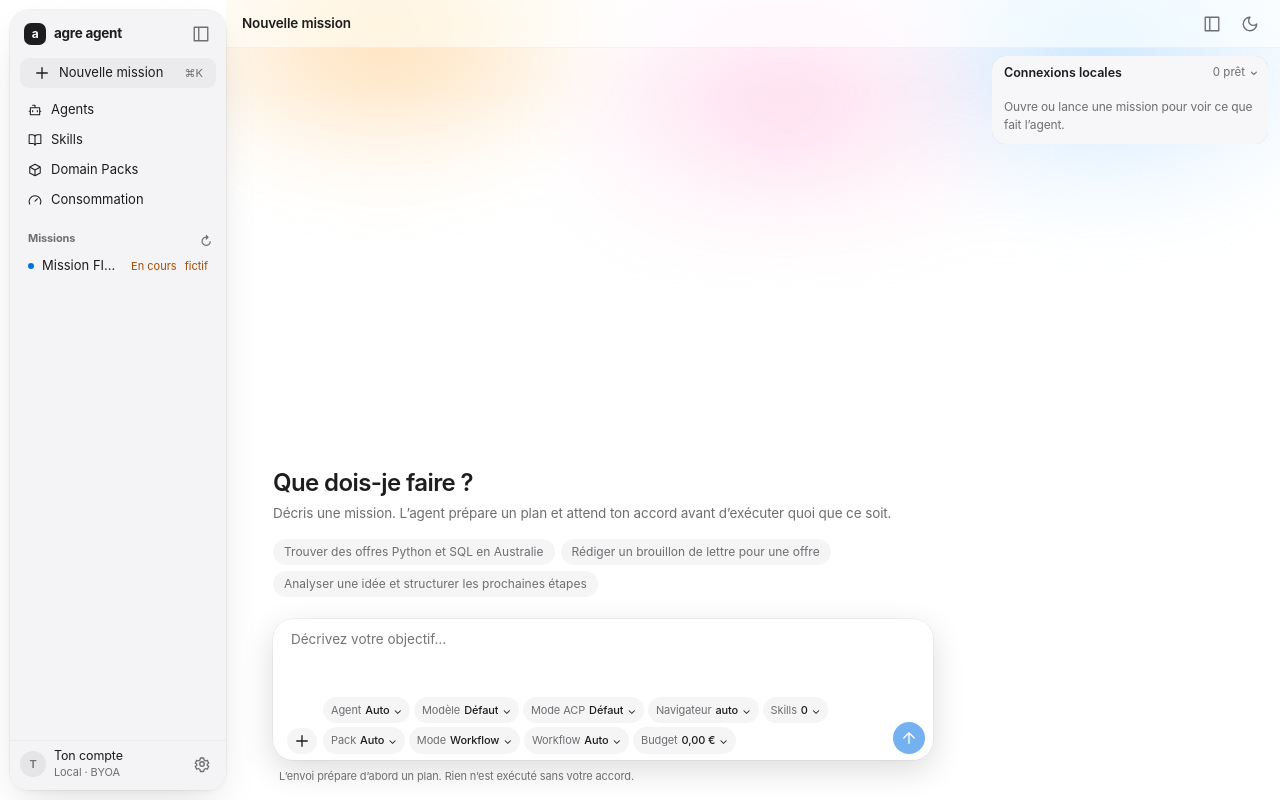
détecte une perte du backend même si le flux ne signale aucune erreur
This screenshot has width=1280, height=800.
Click the button "Mission FICTIVE sans événement En cours fictif" at point(118, 266), box [18,252,218,280]
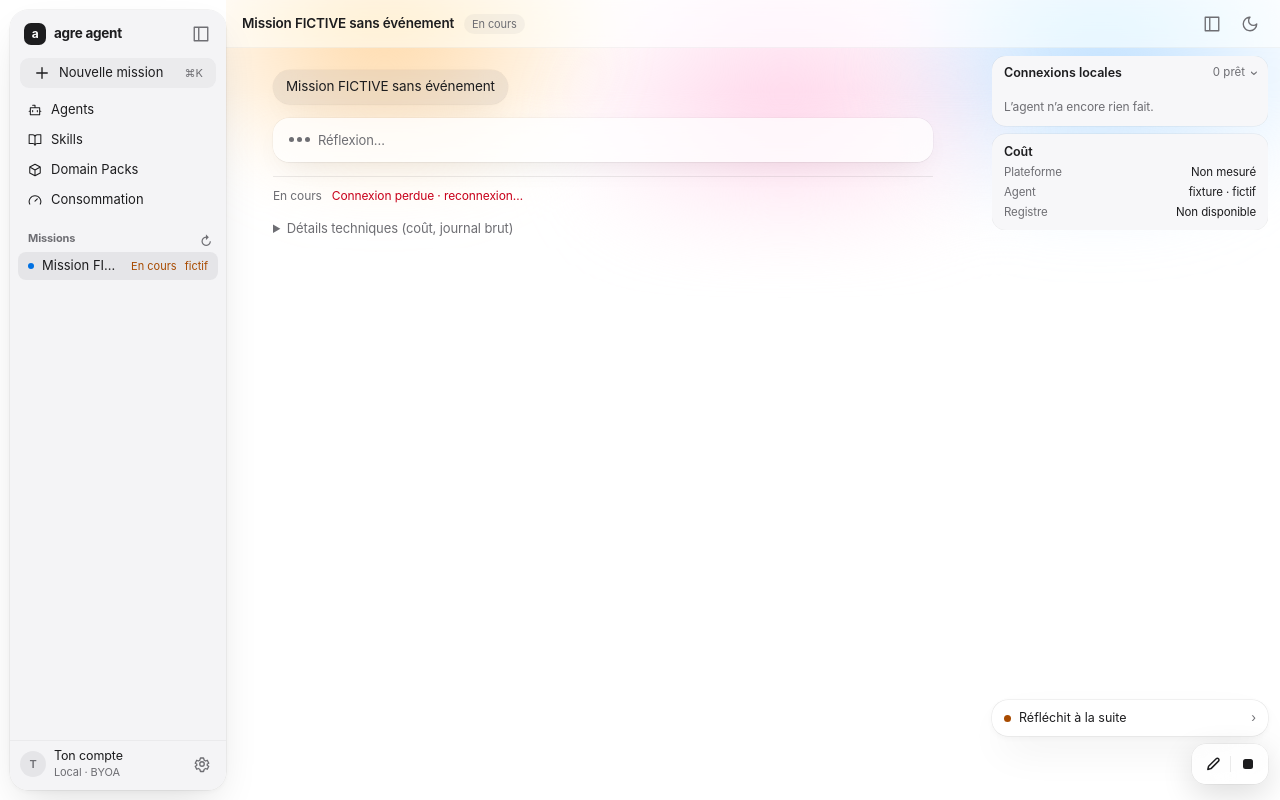
Expected: the 1st text "Mission FICTIVE sans événement" is shown, [242,14,454,34]
Expected: the text with class "danger" reads "Connexion perdue · reconnexion…", [332,188,523,203]
